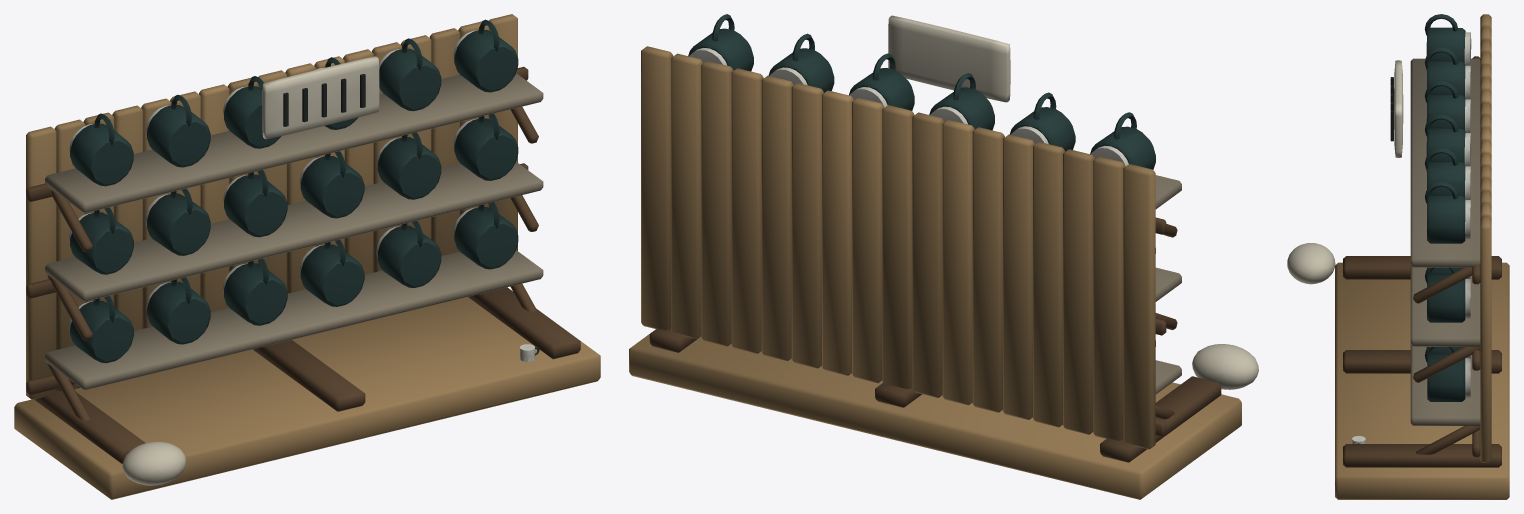
File: lamp_rack_a.glb
3 renders of one model, left to right at view 1: azimuth 30°, elevation 25°; view 2: azimuth 150°, elevation 25°; view 3: azimuth 270°, elevation 25°, orthographic. The views are drawn at different scales.
Parts seen in each view (by area): view 1: Surface; view 2: Surface; view 3: Surface.
Boxes of the visible parts, x1,y1,x2,y2 form: Surface: (14, 14, 600, 499); Surface: (629, 14, 1258, 499); Surface: (1287, 14, 1509, 499).
Size of the model in its own units: 6.5 by 4.31 by 2.8.
